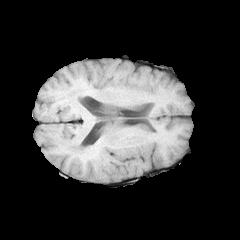glioma: (83, 146, 143, 181)
